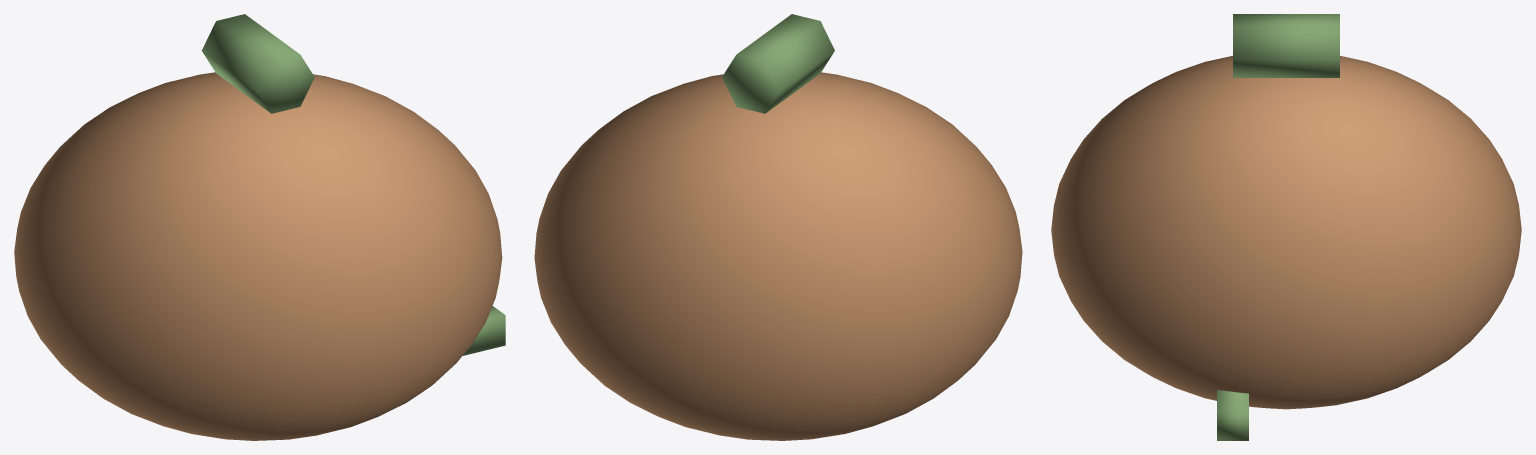
The model's file is plant_pumpkin.glb.
The picture shows the model from 3 angles, left to right: view 1: azimuth 30°, elevation 25°; view 2: azimuth 150°, elevation 25°; view 3: azimuth 270°, elevation 25°; orthographic projection. The views are drawn at different scales.
Parts seen in each view (by area): view 1: body, handle, vine; view 2: body, handle; view 3: body, handle, vine.
Part boxes in pixels (left/top/right/bottom): body: left=14, top=72, right=502, bottom=440; handle: left=201, top=14, right=314, bottom=113; vine: left=463, top=306, right=505, bottom=355; body: left=534, top=72, right=1022, bottom=440; handle: left=722, top=14, right=834, bottom=113; body: left=1051, top=56, right=1521, bottom=409; handle: left=1233, top=14, right=1339, bottom=77; vine: left=1217, top=389, right=1248, bottom=440.
Bounding box in the file's own units: 0.44 × 0.37 × 0.44.
